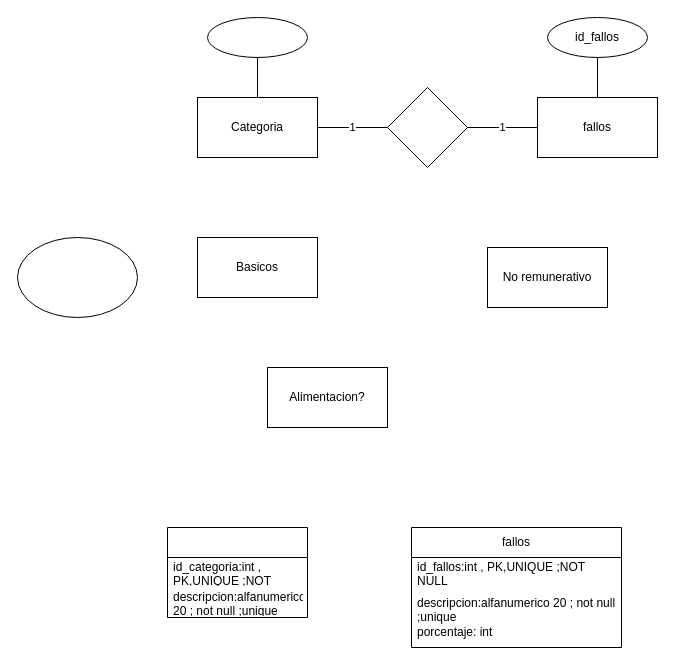
The diagram is 675 pixels wide and 665 high, and some of its shapes have lost their labels. The box of each missing label's shape, as (x1, y1, x2, y2) in pixels:
categria: (166, 526, 308, 618)
id_basicos: (16, 236, 138, 318)
Id_categoria: (206, 16, 308, 58)
Paga: (386, 86, 468, 168)
